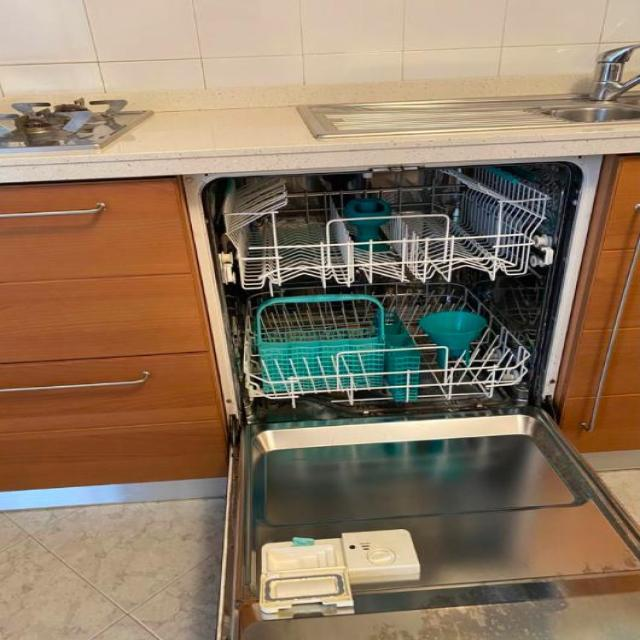dishwasher: (182, 151, 639, 639)
